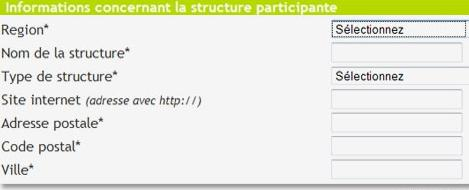field: (329, 112, 462, 136), (328, 42, 465, 64), (329, 88, 463, 110), (328, 160, 463, 181), (329, 136, 463, 157)
field_with_label: (1, 38, 468, 66), (2, 110, 464, 137), (0, 157, 465, 183), (1, 85, 465, 111), (2, 135, 465, 158)
